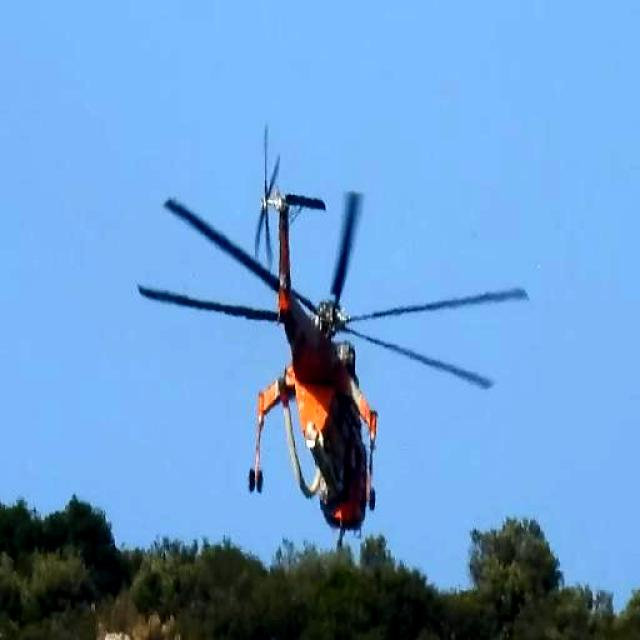drone: (138, 146, 529, 536)
